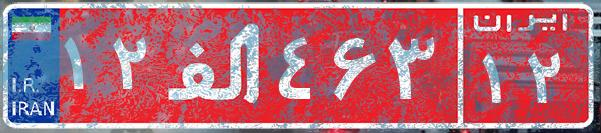1: (57, 26, 110, 107), (475, 38, 525, 113)
2: (110, 28, 158, 105), (525, 38, 570, 115)
3: (385, 28, 445, 110)
4: (273, 28, 330, 110)
6: (330, 28, 385, 110)
الف: (158, 15, 273, 115)
